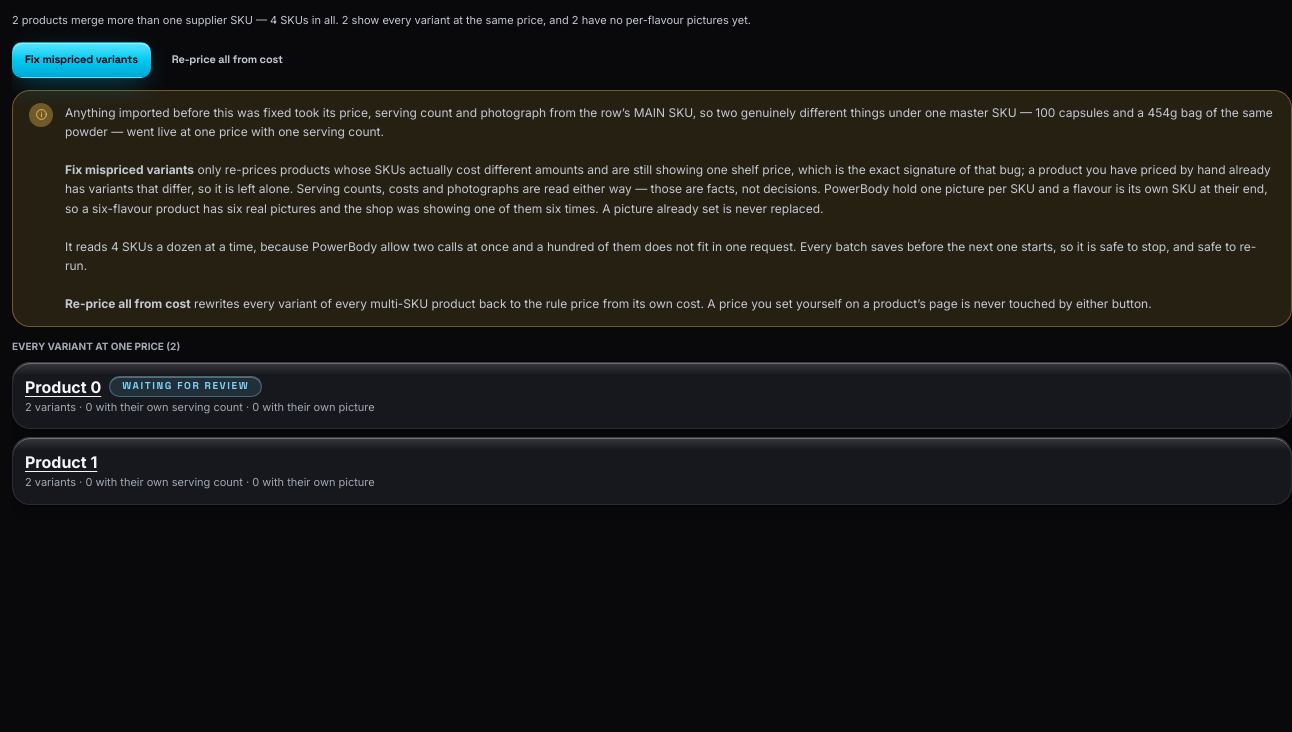
VariantPriceRepairPanel › walks the batches from where each left off, and reports what it corrected
Click the button "Fix mispriced variants" at (81, 60), box [12,42,151,78]
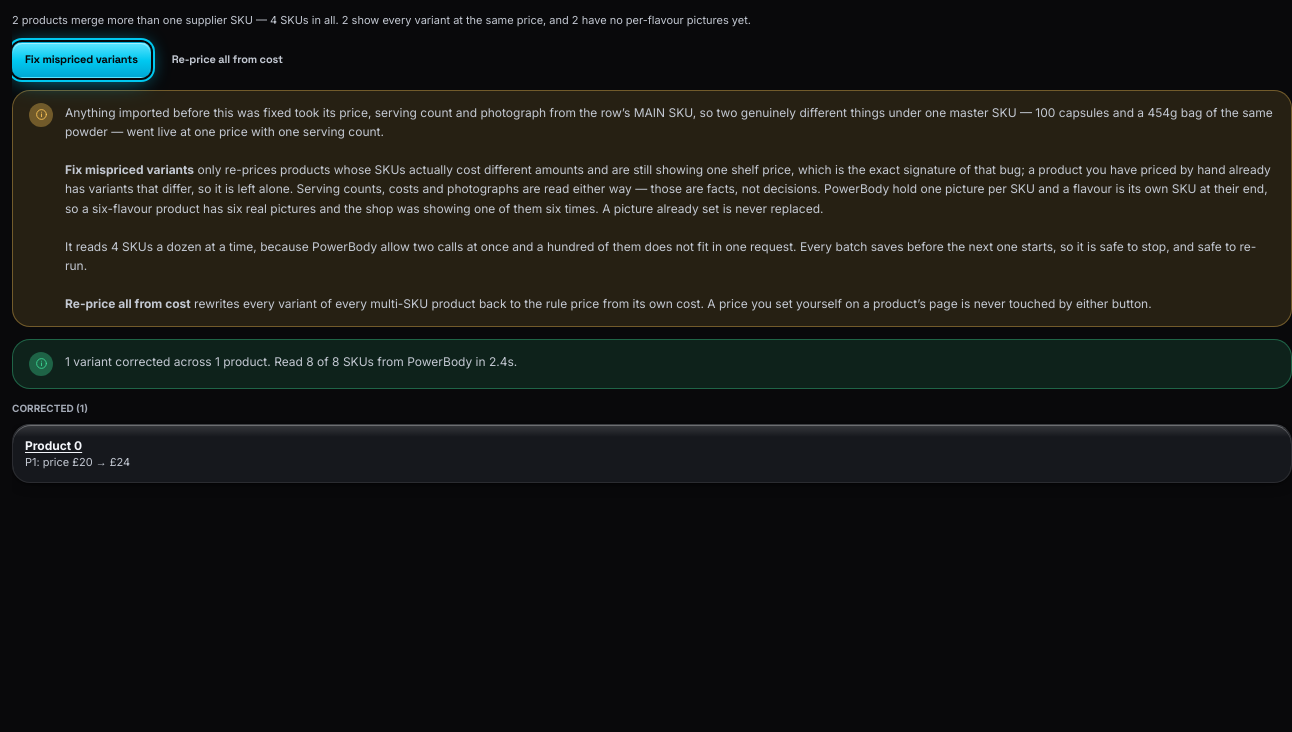
Expected: the text "1 variant corrected across 1 product" is shown, [65,354,271,369]
Expected: the text "P1: price £20 → £24" is shown, [25,455,130,469]
